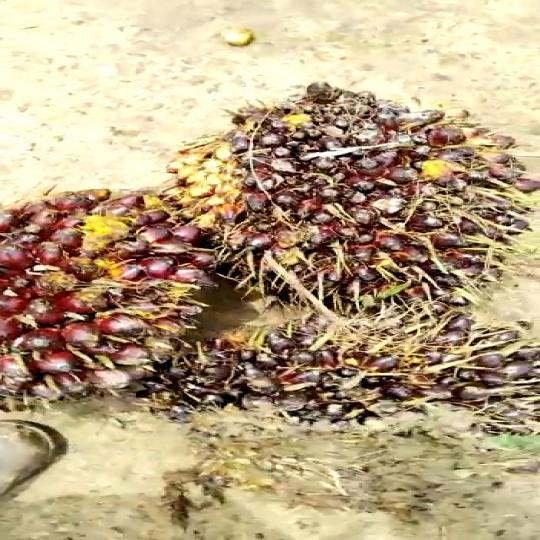kurang masak: (191, 73, 540, 299), (104, 306, 540, 447), (0, 177, 238, 396)
